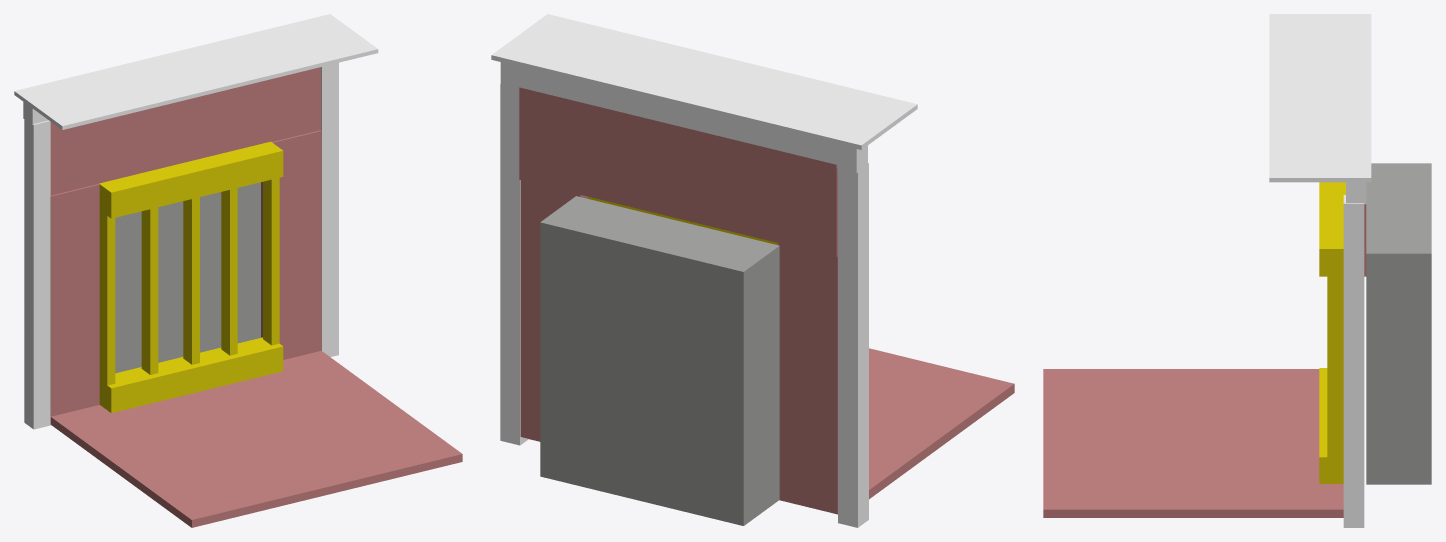
Rendered from sh-contrib-fireplace2.glb.
3 renders of one model, left to right at view 1: azimuth 30°, elevation 25°; view 2: azimuth 150°, elevation 25°; view 3: azimuth 270°, elevation 25°, orthographic. The views are drawn at different scales.
Visible parts, largest first — view 1: hearth, top_brass, top_white_trim, gray, right_white_trim; view 2: gray, hearth, top_white_trim, right_white_trim; view 3: hearth, gray, top_white_trim, right_white_trim, top_brass.
Part boxes in pixels (<box>): hearth: <box>50,67,462,527</box>; top_brass: <box>99,141,283,412</box>; top_white_trim: <box>14,14,378,129</box>; gray: <box>115,182,260,373</box>; right_white_trim: <box>24,62,338,429</box>; gray: <box>540,196,779,525</box>; hearth: <box>519,87,1014,514</box>; top_white_trim: <box>491,14,917,173</box>; right_white_trim: <box>500,84,868,527</box>; hearth: <box>1043,204,1366,517</box>; gray: <box>1366,163,1431,484</box>; top_white_trim: <box>1269,14,1371,204</box>; right_white_trim: <box>1343,195,1364,527</box>; top_brass: <box>1319,182,1345,483</box>.
Size of the model in its own units: 1 by 1 by 1.
